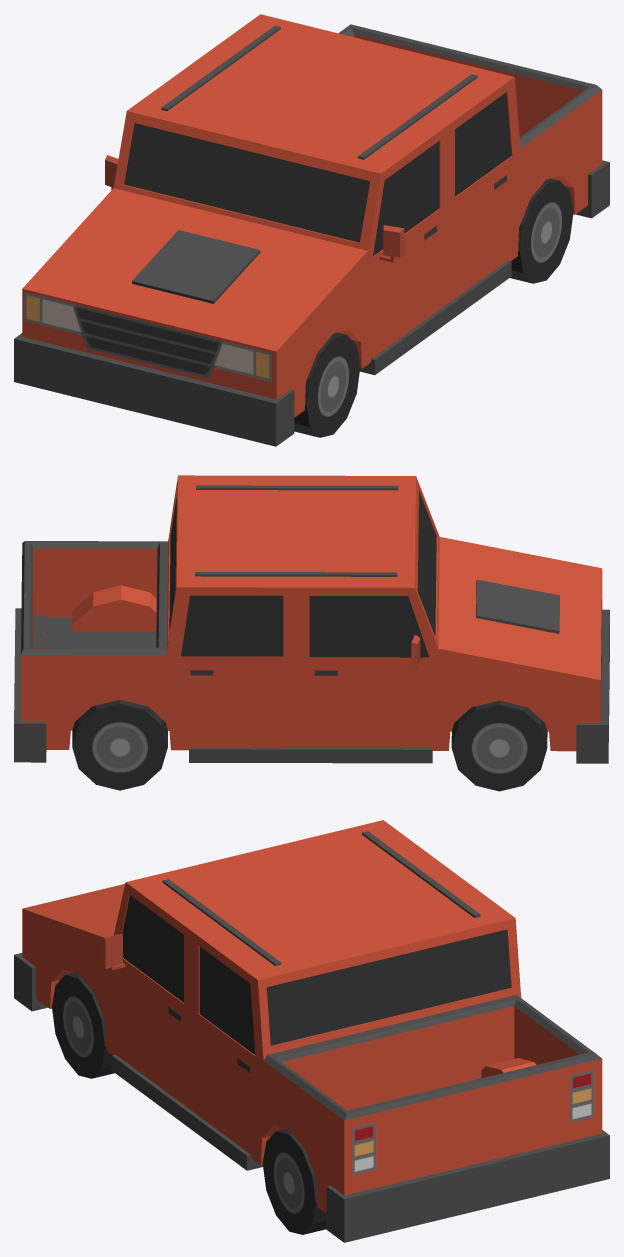
Rendered from Car5_truck1.glb.
3 views of the same model, one above another, from view 1: azimuth 30°, elevation 25°; view 2: azimuth 150°, elevation 25°; view 3: azimuth 270°, elevation 25° (orthographic). The views are drawn at different scales.
Parts seen in each view (by area): view 1: Vehicle_Pick up Truck_color01.000; view 2: Vehicle_Pick up Truck_color01.000; view 3: Vehicle_Pick up Truck_color01.000.
Boxes of the visible parts, x1,y1,x2,y2 form: Vehicle_Pick up Truck_color01.000: (14, 14, 609, 446); Vehicle_Pick up Truck_color01.000: (14, 475, 609, 791); Vehicle_Pick up Truck_color01.000: (14, 820, 609, 1242).
Bounding box in the file's own units: 1.63 × 0.5687 × 1.33.
1 material, 1 textured.
